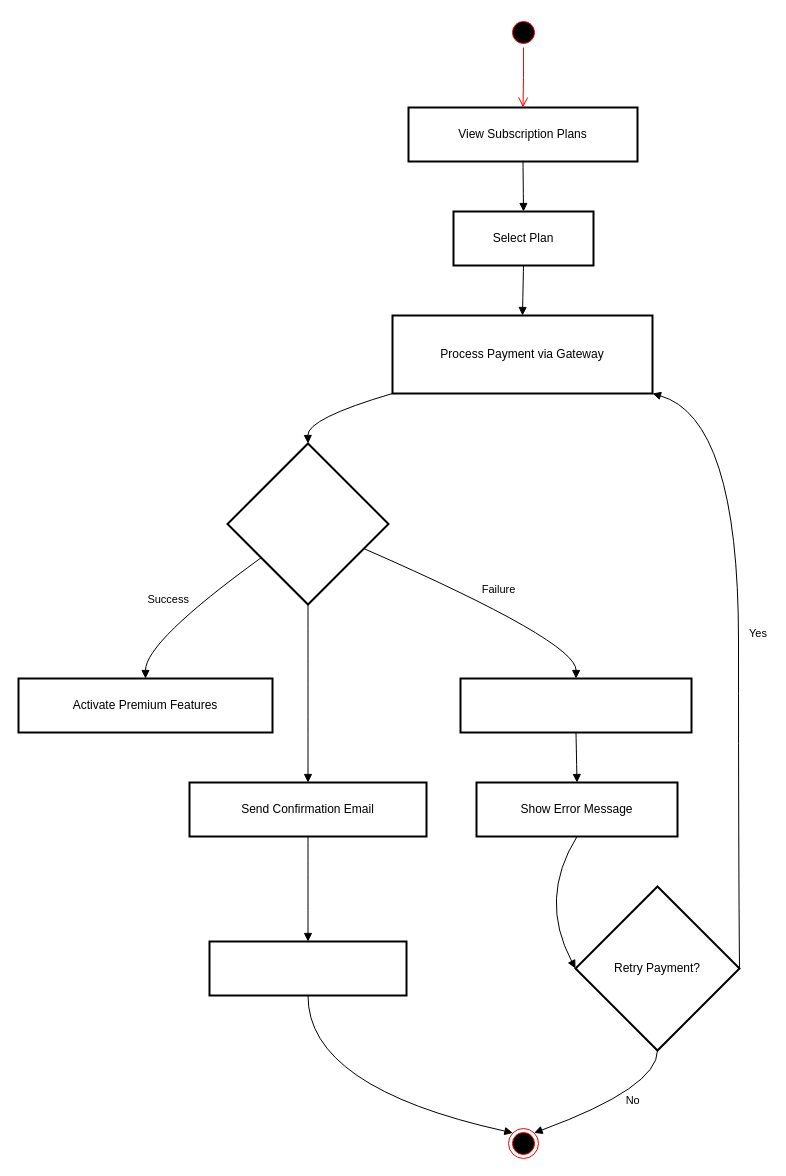
This 786x1176 diagram has some shape labels left out. Here are the shapes that lost their labels. From the top down, the centre of each, then its label:
the point at 307,523: Payment Valid?
the point at 575,705: Handle Payment Failure
the point at 307,968: Update User Status
